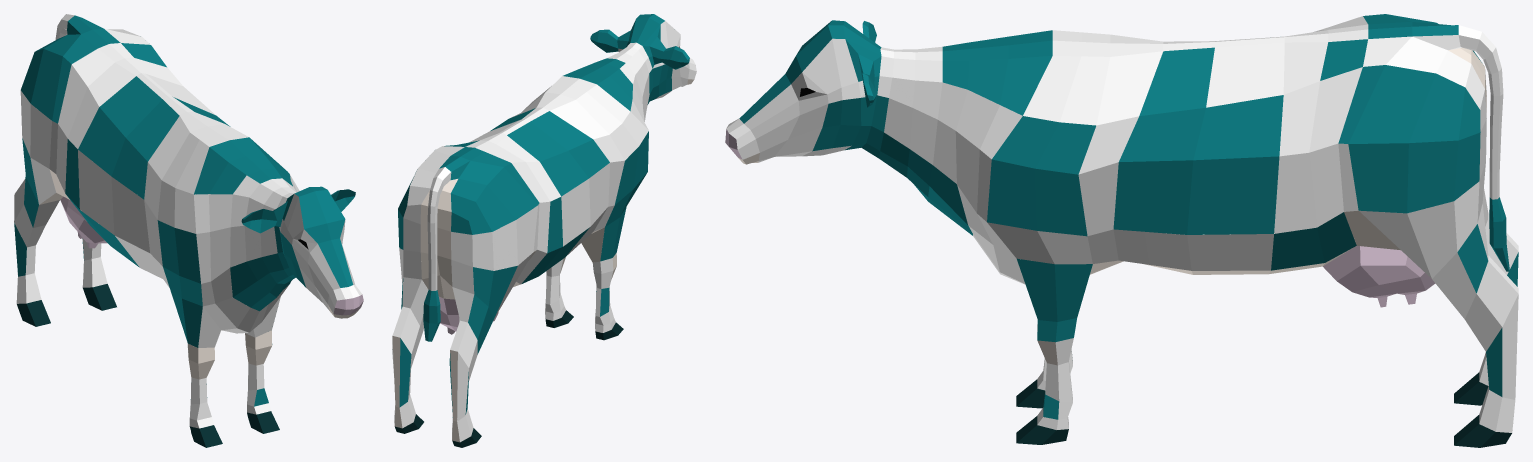
File: healthy-cow-transformed.glb
The picture shows the model from 3 angles, left to right: view 1: azimuth 30°, elevation 25°; view 2: azimuth 150°, elevation 25°; view 3: azimuth 270°, elevation 25°; orthographic projection. The views are drawn at different scales.
Parts seen in each view (by area): view 1: vache_0, vache_5, vache_4, vache_3, vache_1; view 2: vache_0, vache_5, vache_3, vache_4, vache_1; view 3: vache_0, vache_5, vache_1, vache_4, vache_3.
Boxes of the visible parts, x1,y1,x2,y2 form: vache_0: [14, 14, 362, 428]; vache_5: [14, 15, 355, 406]; vache_4: [17, 284, 279, 447]; vache_3: [39, 169, 360, 379]; vache_1: [60, 196, 363, 315]; vache_0: [392, 21, 696, 442]; vache_5: [398, 14, 689, 417]; vache_3: [392, 79, 693, 442]; vache_4: [395, 310, 623, 447]; vache_1: [438, 296, 498, 334]; vache_0: [726, 16, 1518, 432]; vache_5: [739, 14, 1518, 419]; vache_1: [725, 129, 1435, 307]; vache_4: [1016, 372, 1511, 447]; vache_3: [738, 47, 1486, 365].
Bounding box in the file's own units: 2.22 × 4.88 × 8.9.
